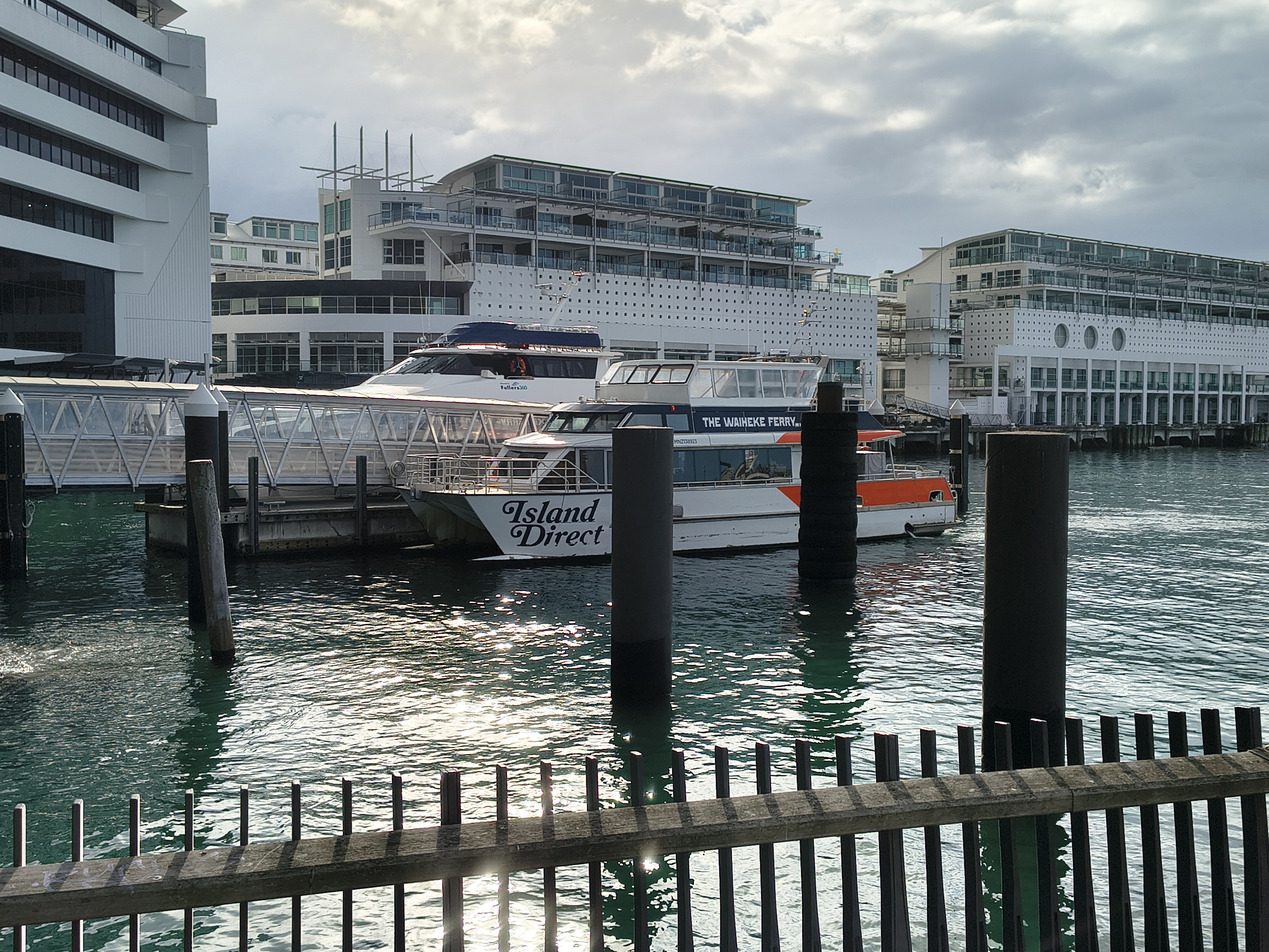ferry: (216, 320, 780, 529)
